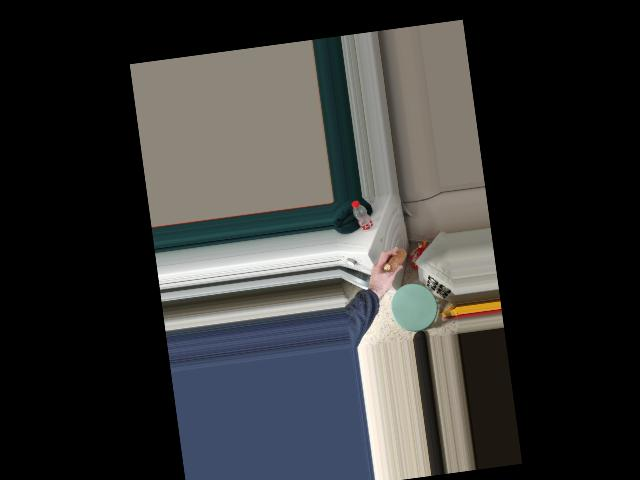sweet_potato: (378, 245, 408, 276)
